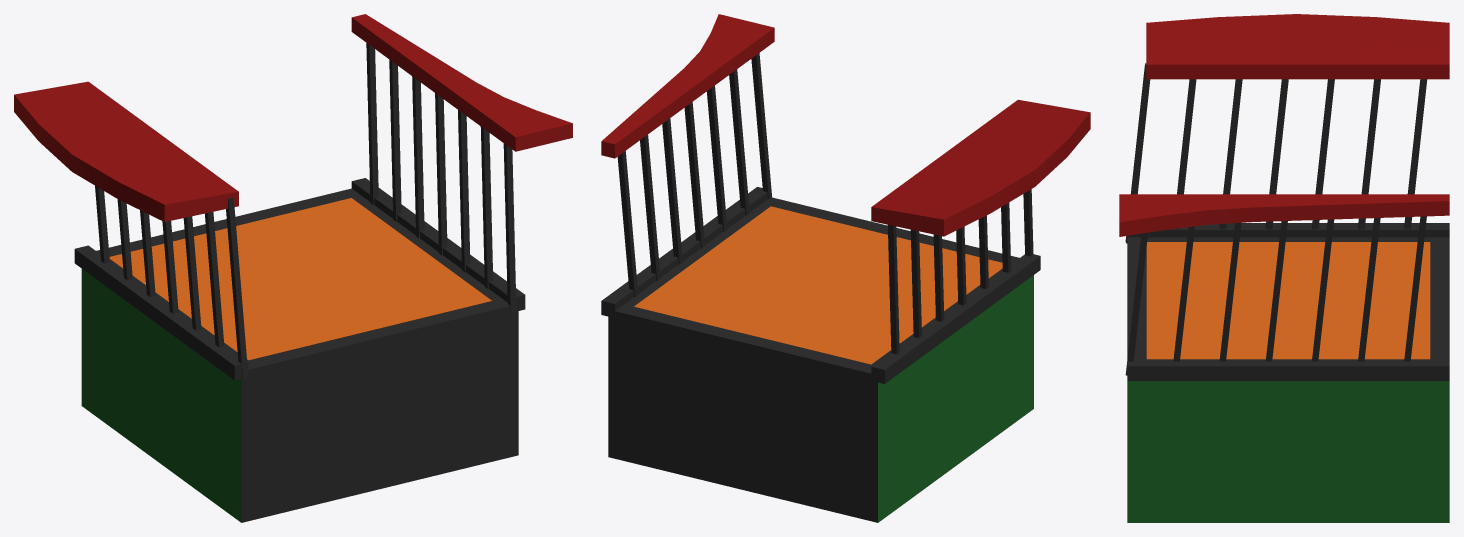
Rendered from MOD_estradeA.FBX.
3 renders of one model, left to right at view 1: azimuth 30°, elevation 25°; view 2: azimuth 150°, elevation 25°; view 3: azimuth 270°, elevation 25°, orthographic. The views are drawn at different scales.
Visible parts, largest first — view 1: Shape010; view 2: Shape010; view 3: Shape010.
Boxes of the visible parts, x1,y1,x2,y2 form: Shape010: (14, 14, 572, 522); Shape010: (601, 14, 1090, 522); Shape010: (1119, 14, 1449, 522).
Size of the model in its own units: 1.49 by 1.13 by 1.02.
